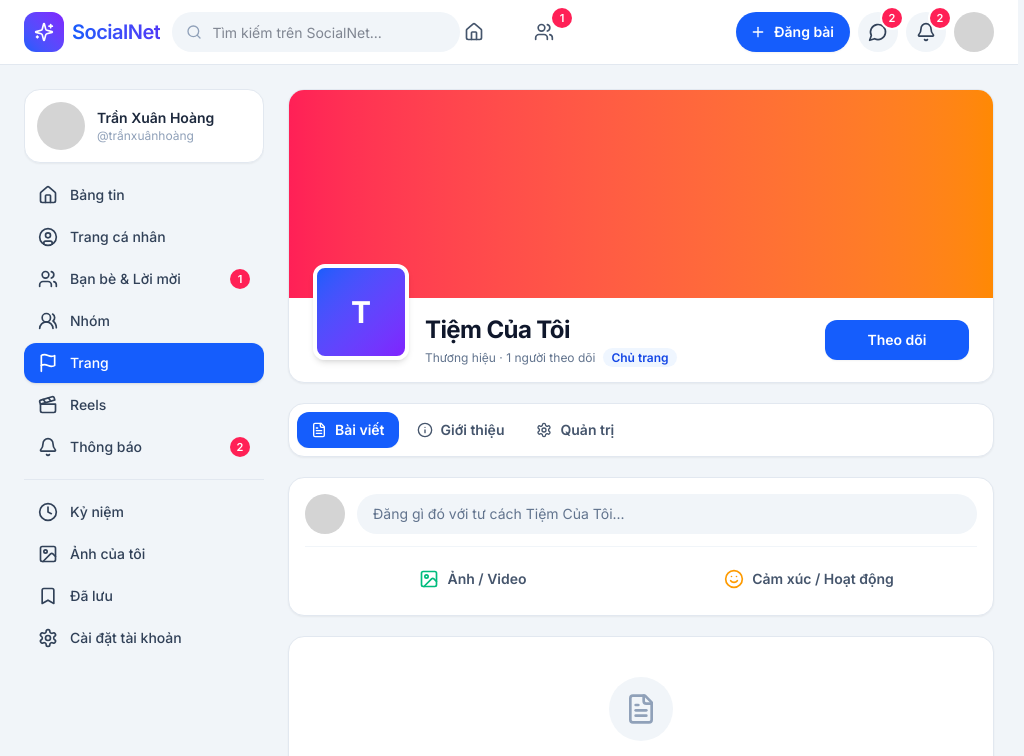
Scenario: Trang — người xem thường › trang không có mô tả → câu thay thế; có địa chỉ thì hiện
Click the button "Giới thiệu" at point(461, 430), box [403,412,518,448]
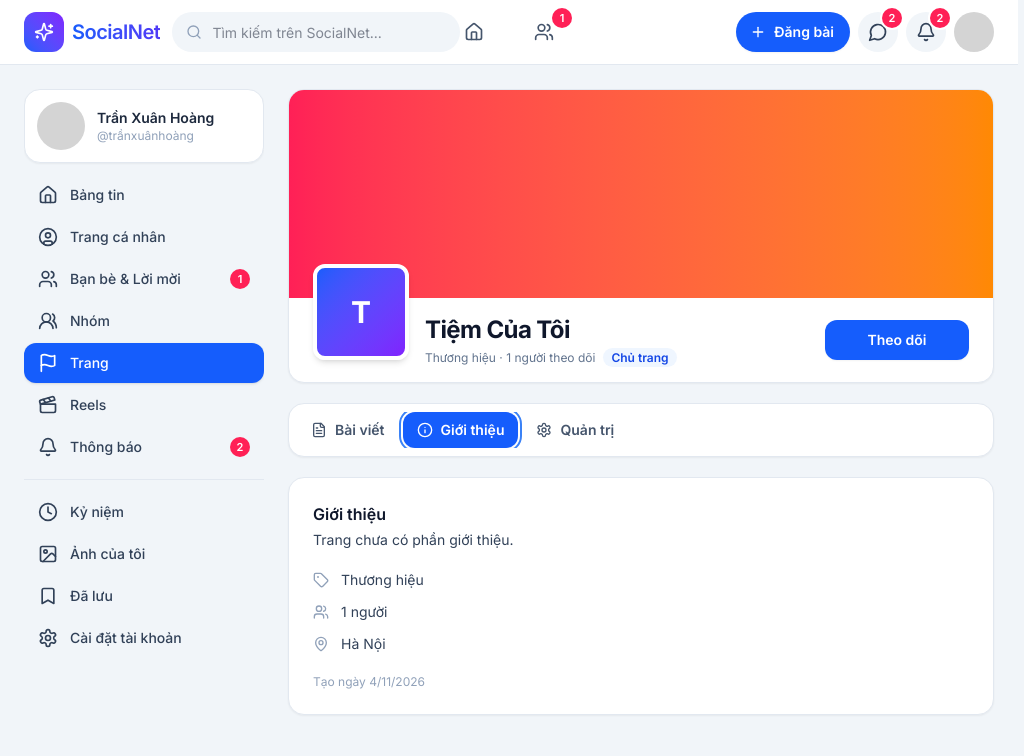
Check: the text "Trang chưa có phần giới thiệu." is shown, box [313,531,514,548]
Check: the text "Hà Nội" is shown, box [341,634,386,654]
